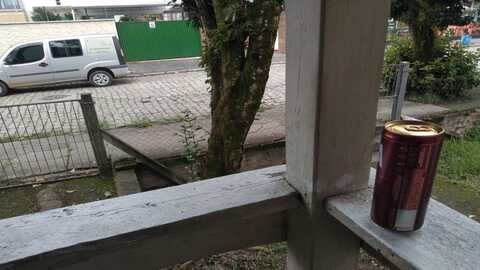duplo_malte: (371, 122, 449, 229)
